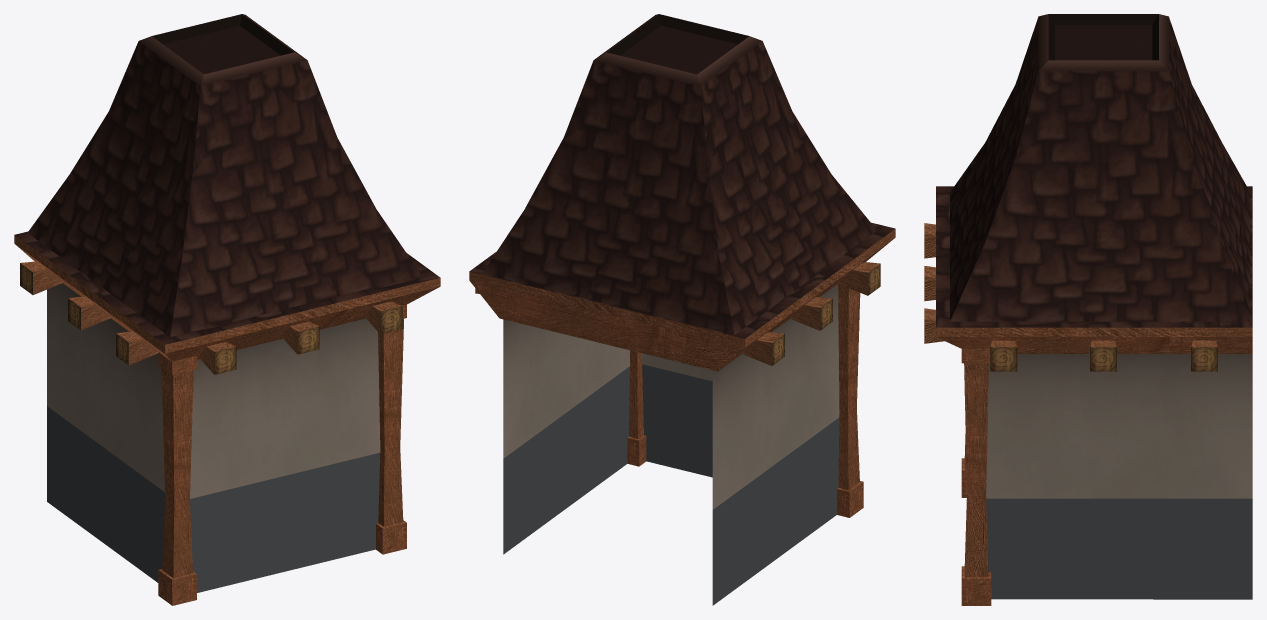
File: fanasty_mod_squ_tower_sml01_extention.fbx
The picture shows the model from 3 angles, left to right: view 1: azimuth 30°, elevation 25°; view 2: azimuth 150°, elevation 25°; view 3: azimuth 270°, elevation 25°; orthographic projection. The views are drawn at different scales.
Visible parts, largest first — view 1: squ_tower_sml01_extention; view 2: squ_tower_sml01_extention; view 3: squ_tower_sml01_extention.
Part boxes in pixels (box(x1,y1,x2,y2)): squ_tower_sml01_extention: box(14, 14, 440, 605); squ_tower_sml01_extention: box(469, 14, 895, 605); squ_tower_sml01_extention: box(924, 14, 1252, 605).
Bounding box in the file's own units: 4.58 × 7.13 × 4.17.
